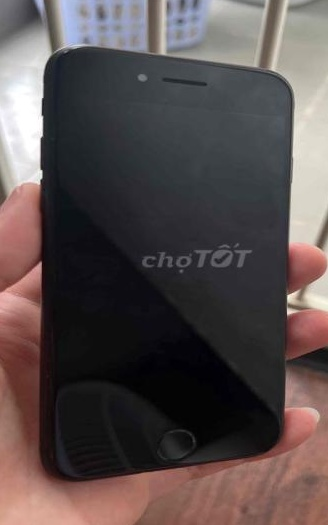scratch: (150, 425, 197, 462)
